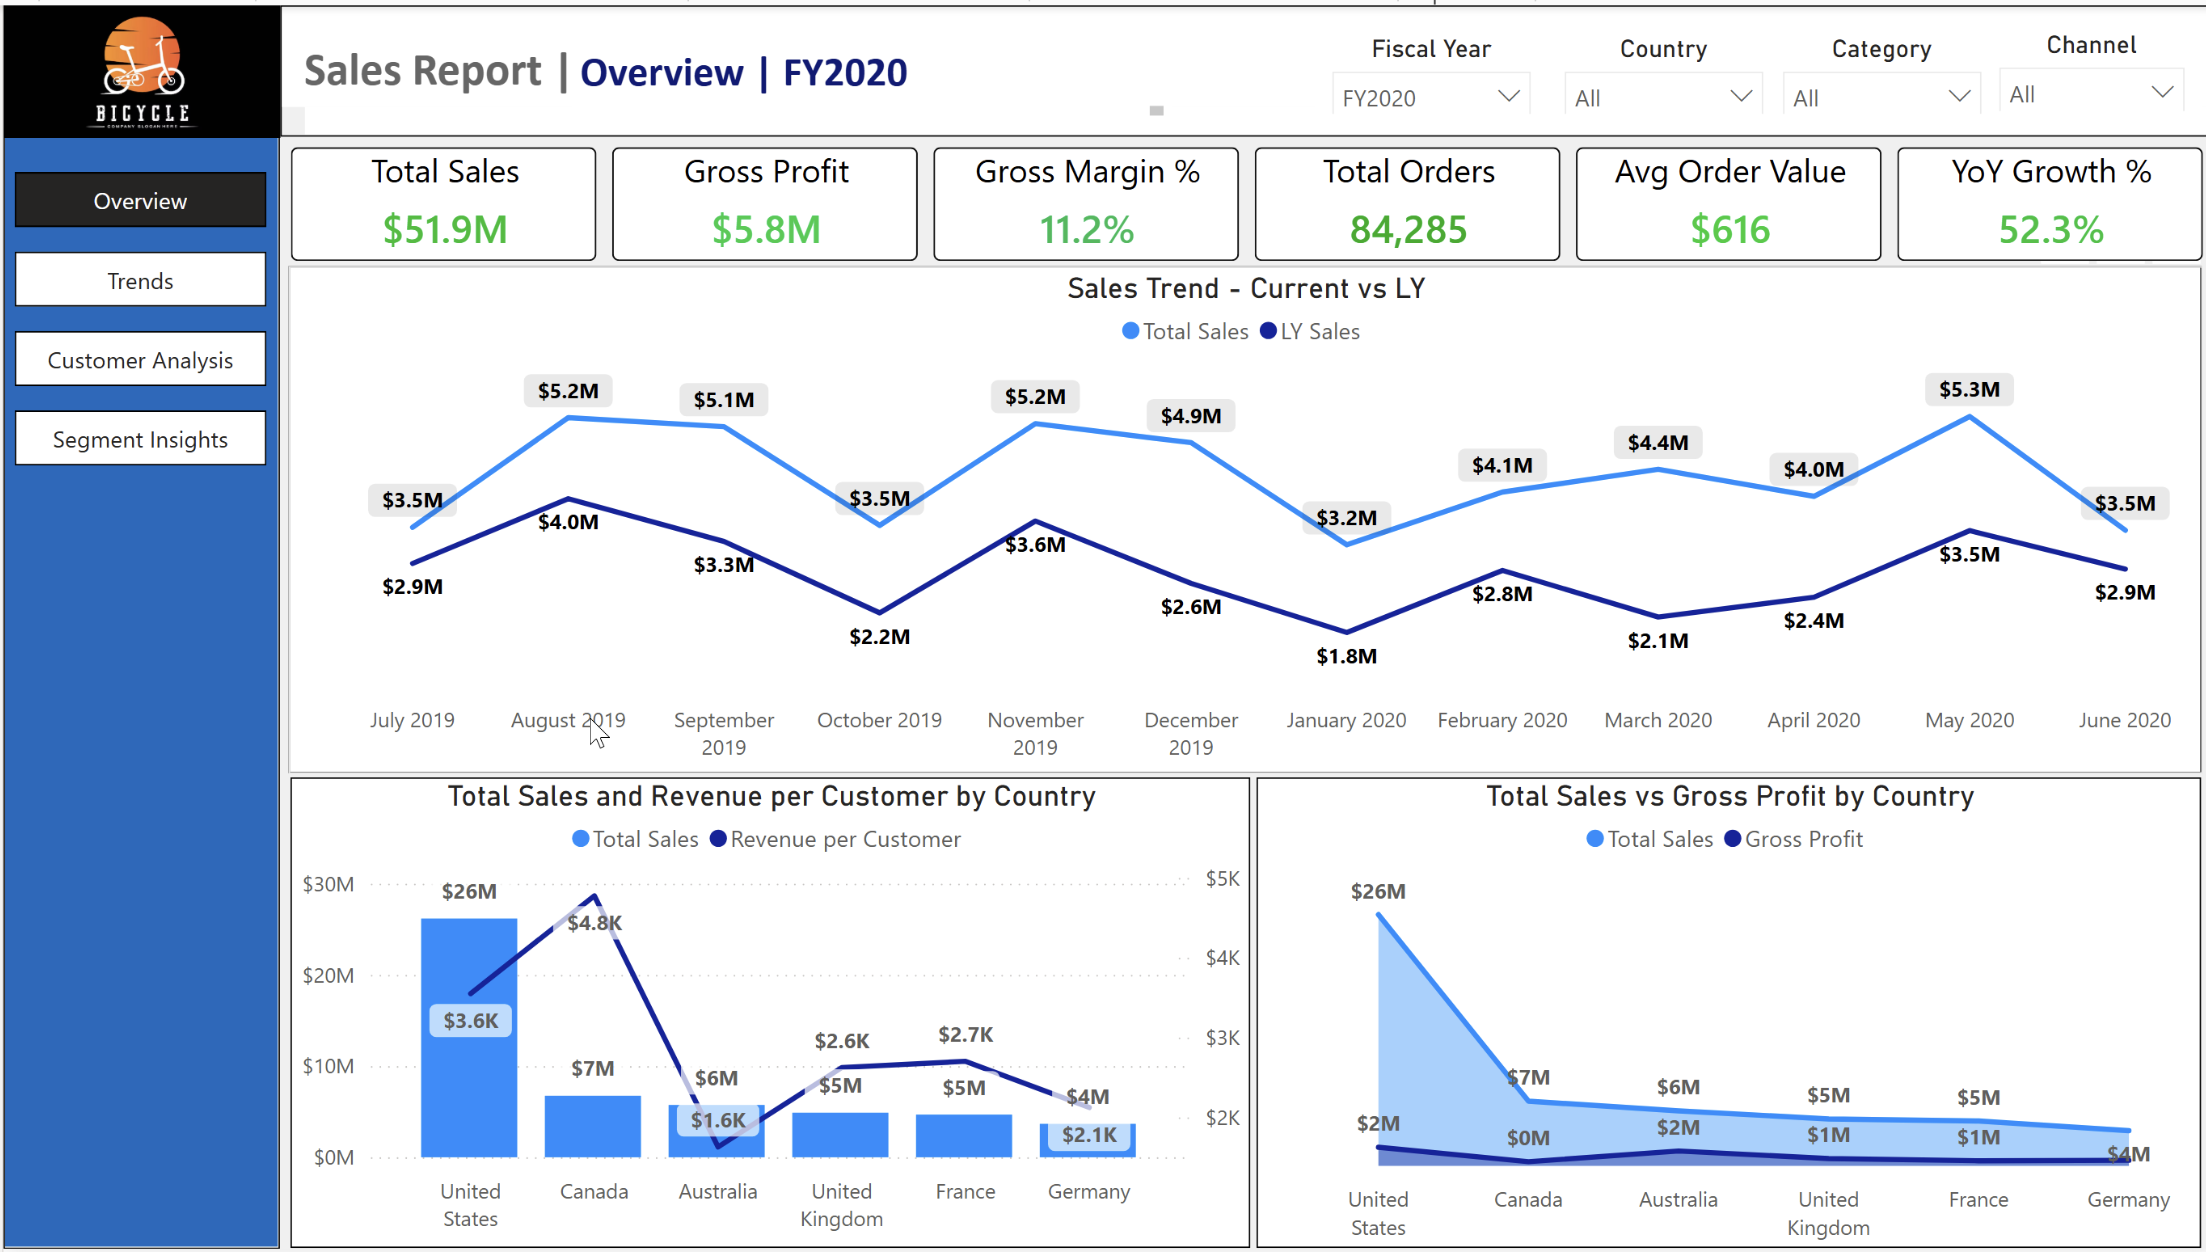

The dashboard page shown, as its layout file describes it:
{"tool":"powerbi","page":{"name":"Overview","canvas":[1280,720],"ordinal":0},"visuals":[{"type":"shape","box":[0,0,160,720],"z":0},{"type":"shape","title":"Sales Report | ","box":[159.8,0,1120.2,76.2],"z":1000},{"type":"cardVisual","fields":{"Data":["Measures_.Total Sales"]},"box":[263.2,307.9,277.6,110.5],"z":2000},{"type":"textbox","box":[328.9,23.3,347.8,45.6],"z":3000},{"type":"lineChart","title":"Sales Trend - Current vs LY","fields":{"Y":["Measures_.Total Sales","Measures_.LY Sales"],"Category":["DimDate.Calendar Year Hierarchy.Month Year"]},"box":[164.8,151.1,1107.7,293.5],"z":5000},{"type":"slicer","title":"Fiscal Year","fields":{"Values":["DimDate.Fiscal Year","DimDate.Month"]},"box":[759.3,16.2,134.9,46.2],"z":6000},{"type":"lineStackedColumnComboChart","fields":{"Category":["DimSalesTerritory.Country"],"Y":["Measures_.Total Sales"],"Y2":["Measures_.Revenue per Customer"]},"box":[166.1,447.1,555.7,272.2],"z":7000},{"type":"areaChart","title":"Total Sales vs Gross Profit by Country","fields":{"Category":["DimSalesTerritory.Country"],"Y":["Measures_.Total Sales","Measures_.Gross Profit"]},"box":[725.5,447.1,547,272.2],"z":8000},{"type":"slicer","title":"Country","fields":{"Values":["DimSalesTerritory.Country"]},"box":[894.1,16.2,134.9,46.2],"z":9000},{"type":"slicer","title":"Channel","fields":{"Values":["DimSalesOrder.Channel"]},"box":[1145.7,14.3,127.1,47.1],"z":10000},{"type":"slicer","title":"Category","fields":{"Values":["DimProduct.Category"]},"box":[1020.3,16.2,134.9,46.2],"z":11000},{"type":"pageNavigator","title":"Select View","box":[2.5,91.2,154.8,184.8],"z":12000},{"type":"cardVisual","fields":{"Data":["Measures_.Total Sales","Measures_.Gross Profit","Measures_.Gross Margin %","Measures_.Total Orders","Measures_.Avg Order Value","Measures_.YoY Growth %"]},"box":[159.8,76.2,1120.2,78.7],"z":13000},{"type":"image","box":[0,0,160.5,76.7],"z":13001}]}

Visuals, with their boxes on the page's 1280x720 design canvas (x1, y1, x2, y2). These are canvas units, not pixel positions in the 2206x1252 screenshot, which may show the page scaled, cropped or inside an application window:
shape: region(0, 0, 160, 720)
"Sales Report | " shape: region(160, 0, 1280, 76)
cardVisual - Measures_.Total Sales: region(263, 308, 541, 418)
textbox: region(329, 23, 677, 69)
"Sales Trend - Current vs LY" lineChart: region(165, 151, 1272, 445)
"Fiscal Year" slicer: region(759, 16, 894, 62)
lineStackedColumnComboChart - DimSalesTerritory.Country x Measures_.Total Sales: region(166, 447, 722, 719)
"Total Sales vs Gross Profit by Country" areaChart: region(726, 447, 1272, 719)
"Country" slicer: region(894, 16, 1029, 62)
"Channel" slicer: region(1146, 14, 1273, 61)
"Category" slicer: region(1020, 16, 1155, 62)
"Select View" pageNavigator: region(2, 91, 157, 276)
cardVisual - Measures_.Total Sales x Measures_.Gross Profit: region(160, 76, 1280, 155)
image: region(0, 0, 160, 77)
